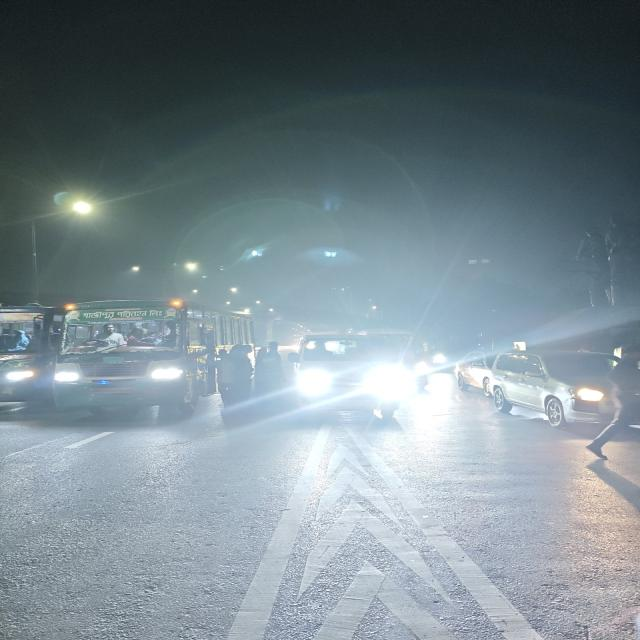bus: (59, 304, 209, 434), (0, 300, 64, 424)
car: (481, 343, 615, 456), (283, 328, 408, 424)
pedestrian: (242, 340, 289, 407)
